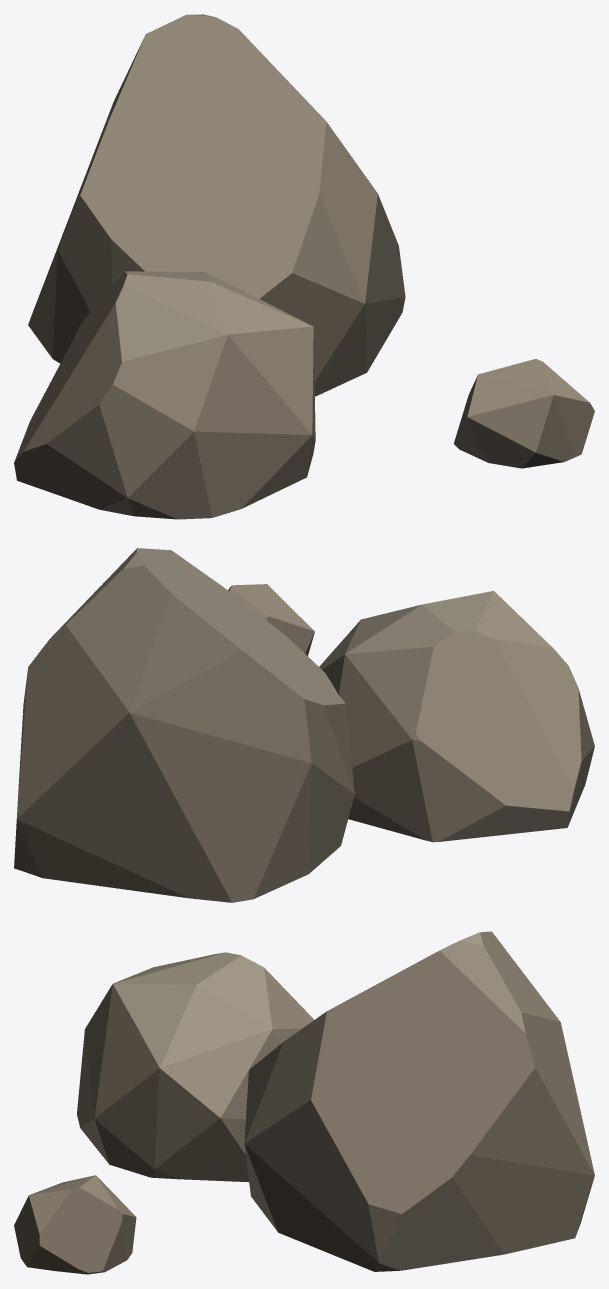
File: rock_c.fbx
The picture shows the model from 3 angles, top to bottom: view 1: azimuth 30°, elevation 25°; view 2: azimuth 150°, elevation 25°; view 3: azimuth 270°, elevation 25°; orthographic projection. The views are drawn at different scales.
Visible parts, largest first — view 1: rock_c; view 2: rock_c; view 3: rock_c.
Boxes of the visible parts, x1,y1,x2,y2 form: rock_c: (14,14,594,519); rock_c: (14,548,594,902); rock_c: (14,931,594,1274).
Bounding box in the file's own units: 4.49 × 2.68 × 5.23.
